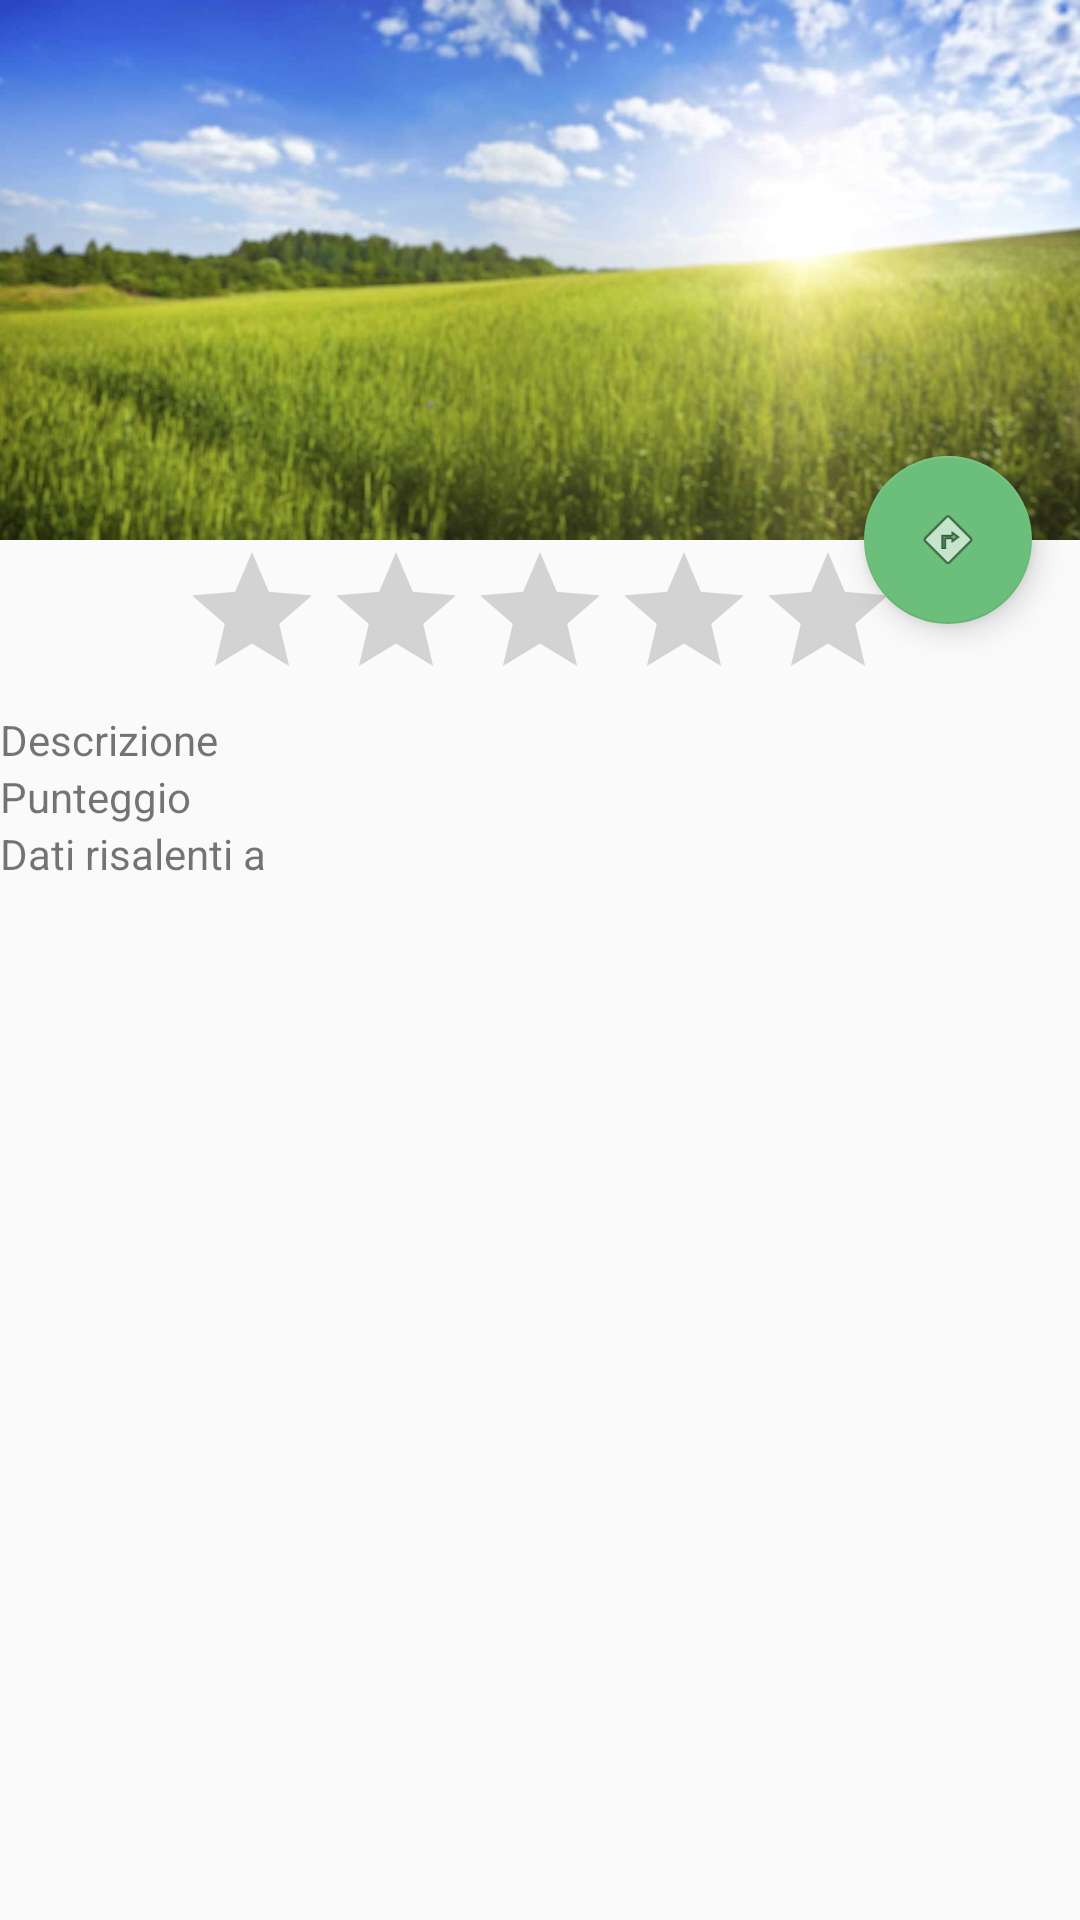

Screen size 1080*1920. Icon name, then its center in pixels as [x,y]:
directions: [948,540]
